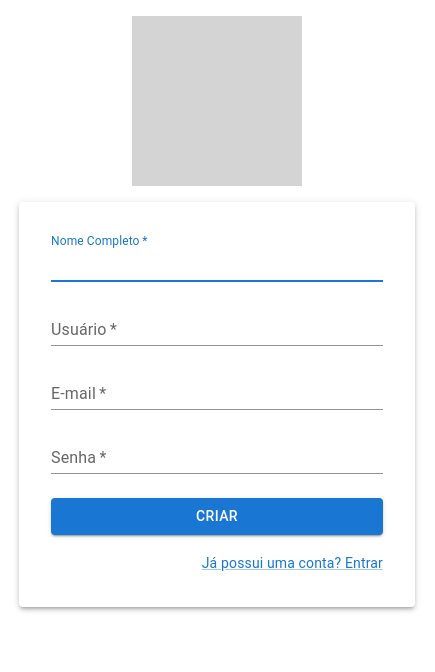
Test: Register › exibe mensagem de erro quando authService lança exceção
This screenshot has width=435, height=672.
Type "João" into the field labelled "Nome Completo *".
click(217, 266); type("João")  # box [51,250,383,282]
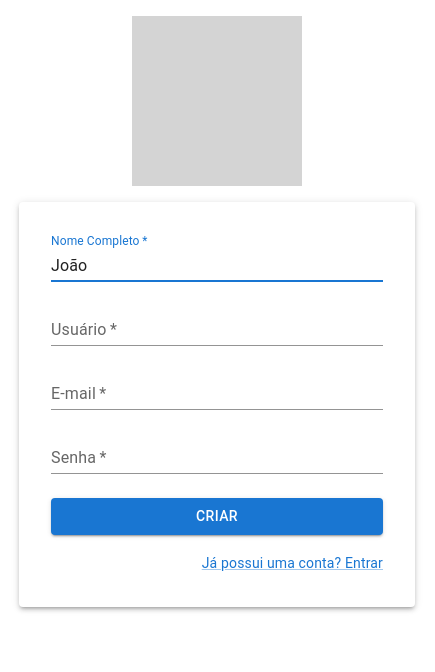
Type "joao" into the field labelled "Usuário *".
click(217, 330); type("joao")  # box [51,314,383,346]
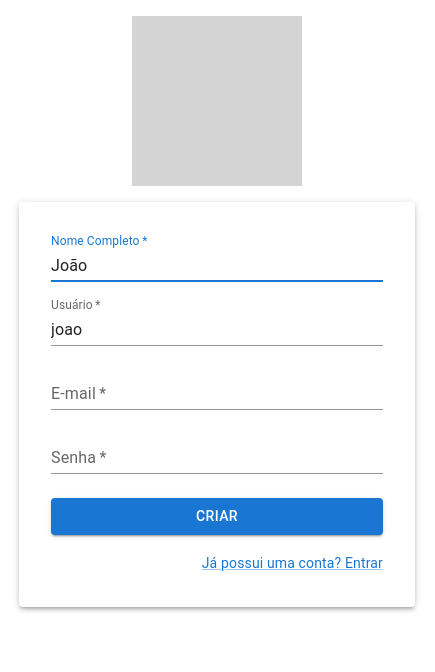
Type "joao@email.com" into the field labelled "E-mail *".
click(217, 394); type("joao@email.com")  # box [51,378,383,410]
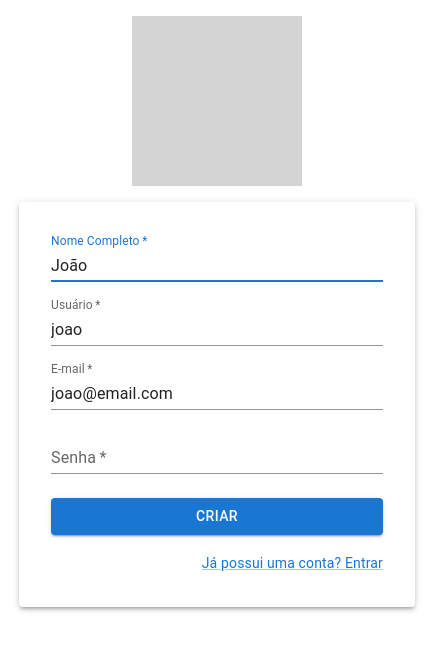
Type "senha" into the password field labelled "Senha *".
click(217, 458); type("senha")  # box [51,442,383,474]
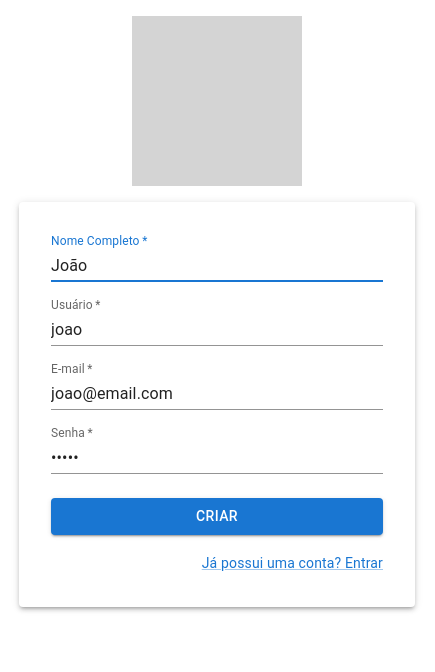
Submit the form "Criar", box [51,218,383,574]
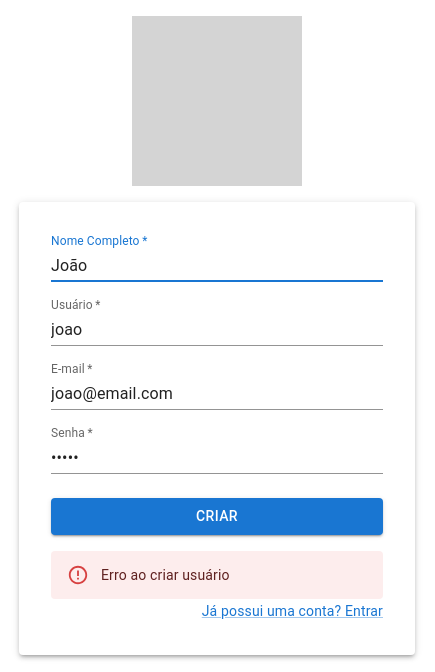
Expected: the text "Erro ao criar usuário" is shown, [101,566,230,582]
